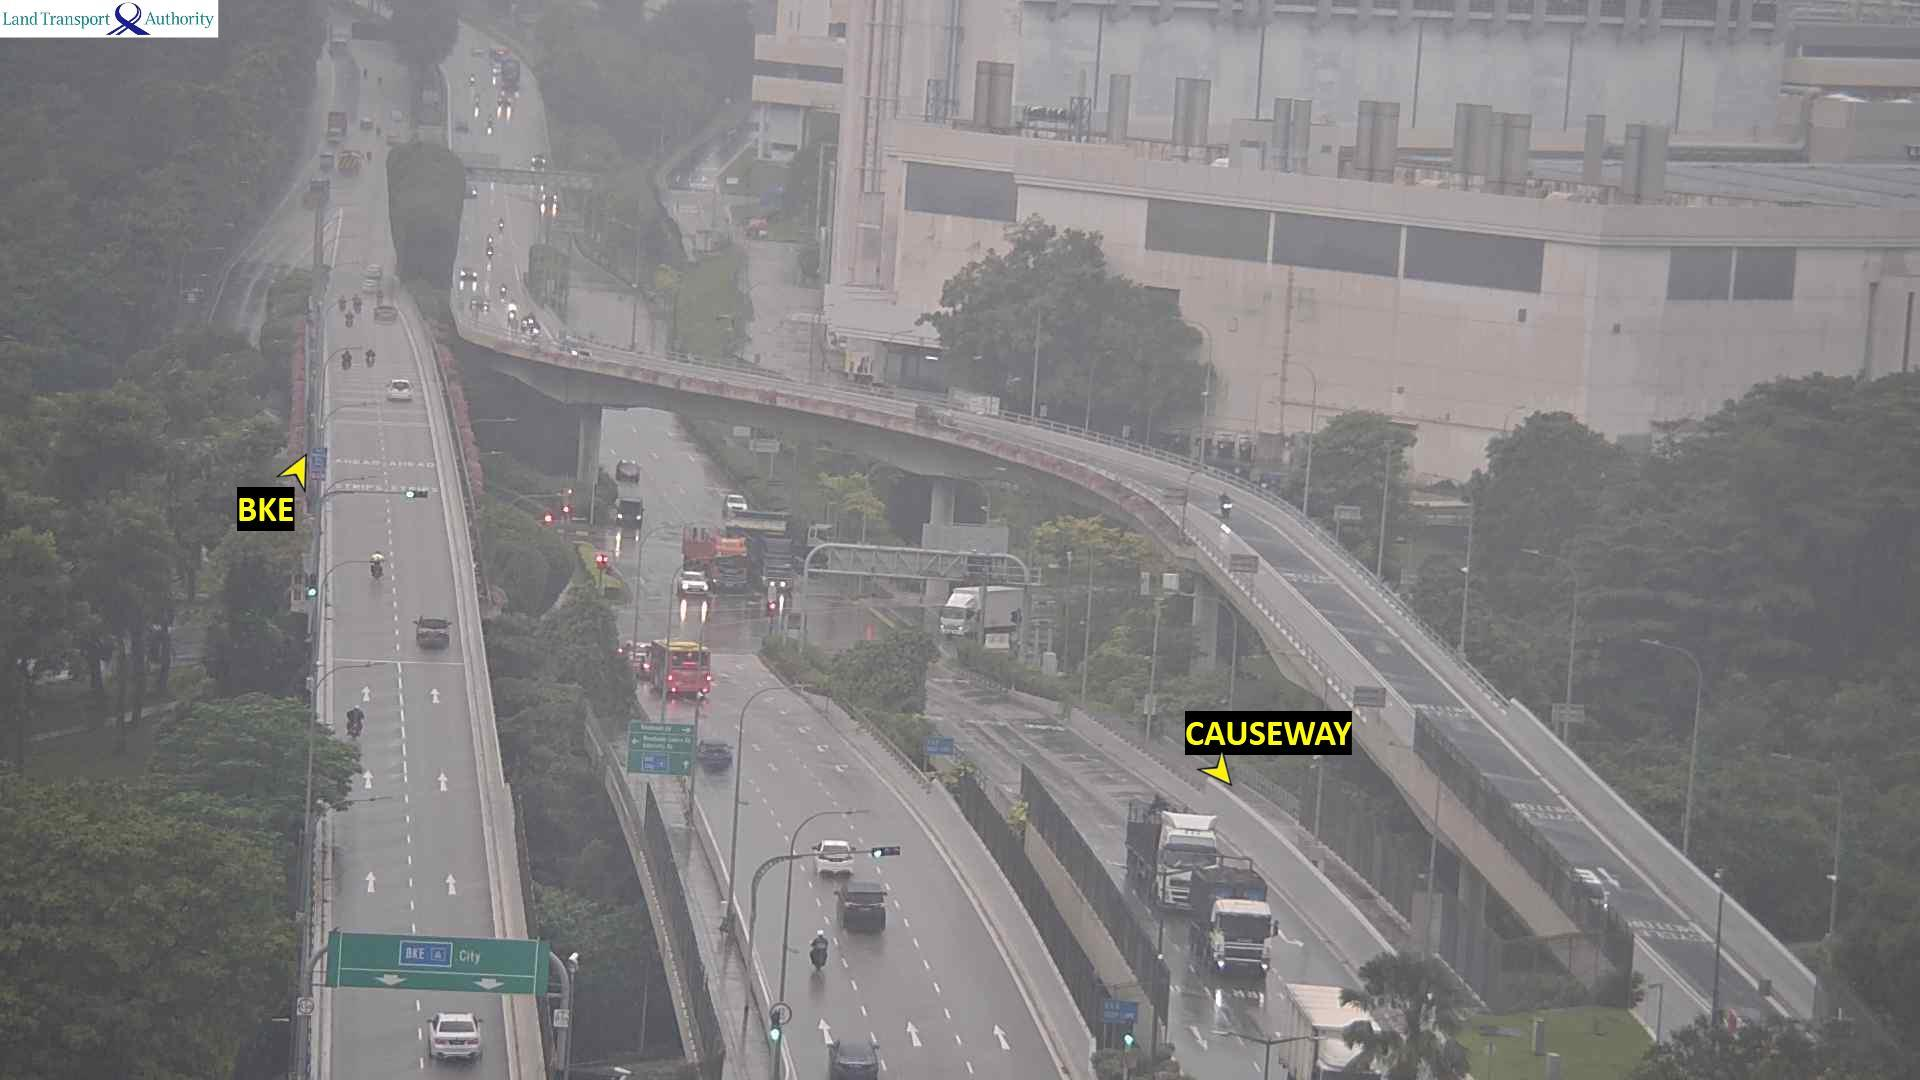vehicle-causeway-johor: (1283, 984, 1390, 1080), (1133, 802, 1222, 903), (1194, 860, 1269, 974), (521, 314, 540, 333), (1217, 493, 1232, 515), (459, 267, 478, 281), (465, 184, 478, 197), (508, 311, 517, 320), (499, 285, 506, 294), (499, 220, 505, 230), (487, 236, 494, 244), (488, 250, 494, 258)
vehicle-causeway-singapore: (424, 1014, 484, 1066), (836, 879, 892, 930), (829, 1039, 878, 1080), (649, 641, 708, 670), (416, 614, 455, 648), (816, 841, 854, 875), (696, 739, 733, 770), (810, 929, 827, 966), (386, 377, 412, 401), (348, 705, 365, 738), (370, 550, 384, 578), (375, 306, 397, 321), (343, 350, 352, 369), (365, 349, 376, 364), (345, 310, 353, 328), (354, 295, 362, 312), (338, 294, 345, 310), (378, 290, 383, 303)
